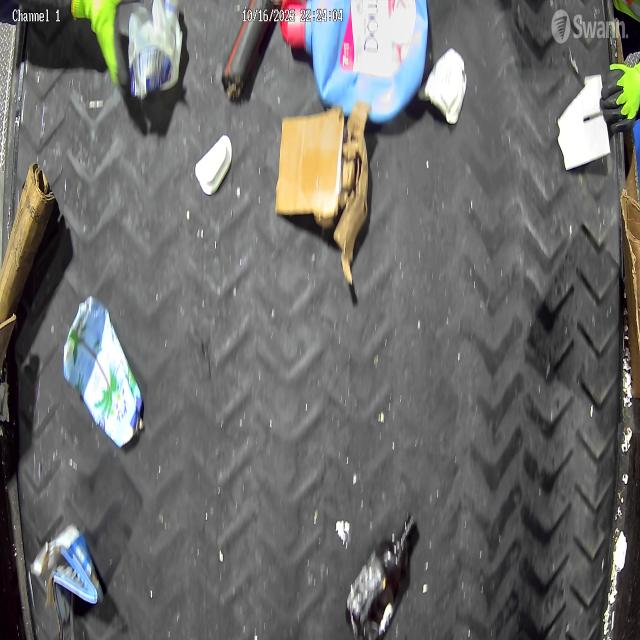milk_jug: (128, 0, 183, 97)
non_white_jug: (280, 0, 428, 123), (63, 296, 144, 448)
